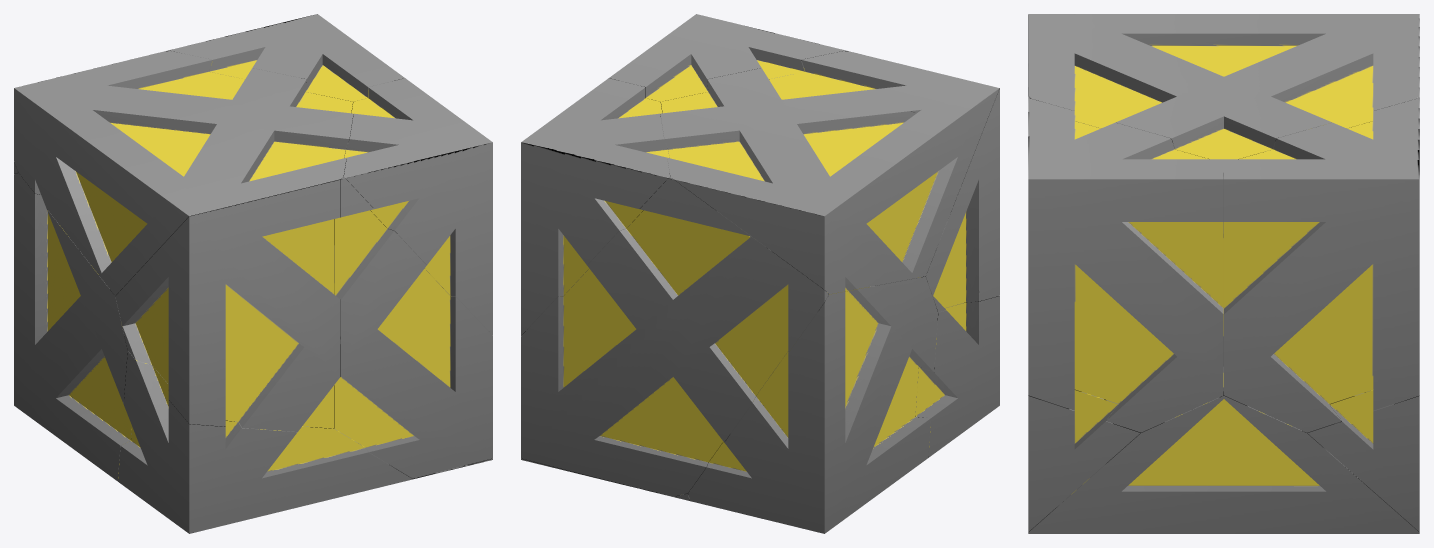
The model's file is caixa_destruida.fbx.
The picture shows the model from 3 angles, left to right: view 1: azimuth 30°, elevation 25°; view 2: azimuth 150°, elevation 25°; view 3: azimuth 270°, elevation 25°; orthographic projection. The views are drawn at different scales.
Visible parts, largest first — view 1: Box_cell.001, Box_cell.004, Box_cell.007, Box_cell.002, Box_cell.008, Box_cell.009, Box_cell.005; view 2: Box_cell.003, Box_cell.001, Box_cell.008, Box_cell.005, Box_cell.009, Box_cell.002, Box_cell.004; view 3: Box_cell.005, Box_cell.009, Box_cell.001, Box_cell.006, Box_cell.007, Box_cell.003.
Part boxes in pixels (<box>): Box_cell.001: <box>14,51,353,295</box>; Box_cell.004: <box>115,180,339,431</box>; Box_cell.007: <box>334,177,492,478</box>; Box_cell.002: <box>118,351,412,533</box>; Box_cell.008: <box>14,173,131,481</box>; Box_cell.009: <box>343,78,492,335</box>; Box_cell.005: <box>170,14,404,101</box>; Box_cell.003: <box>521,177,828,496</box>; Box_cell.001: <box>660,51,999,294</box>; Box_cell.008: <box>688,276,937,533</box>; Box_cell.005: <box>521,78,670,335</box>; Box_cell.009: <box>609,14,843,102</box>; Box_cell.002: <box>915,296,999,457</box>; Box_cell.004: <box>843,88,999,312</box>; Box_cell.005: <box>1224,99,1419,432</box>; Box_cell.009: <box>1028,99,1223,432</box>; Box_cell.001: <box>1028,14,1419,159</box>; Box_cell.006: <box>1028,387,1419,533</box>; Box_cell.007: <box>1028,96,1140,531</box>; Box_cell.003: <box>1307,96,1419,531</box>.
Size of the model in its own units: 311 by 311 by 311.
